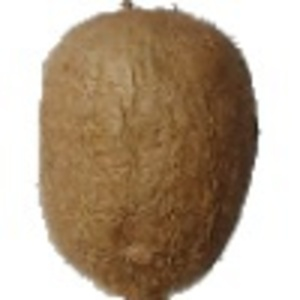kiwi: (15, 1, 260, 300)
